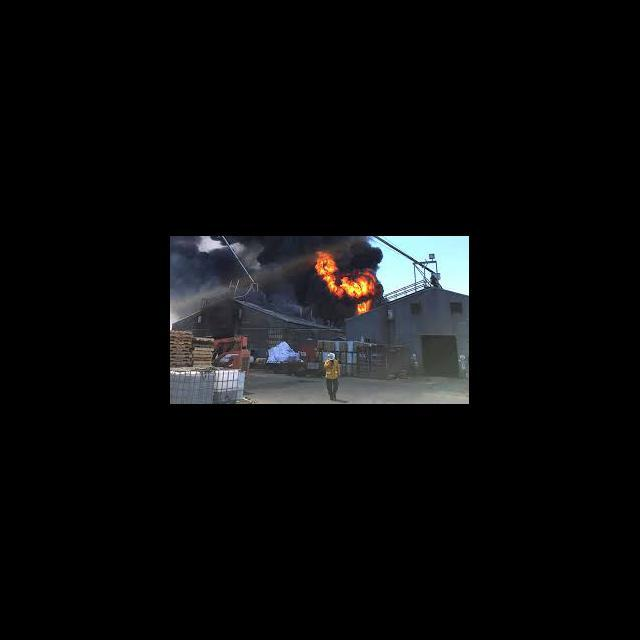Fire: (314, 252, 378, 315)
Smoke: (240, 239, 312, 301), (204, 236, 236, 301), (170, 237, 200, 304), (313, 238, 377, 250)
